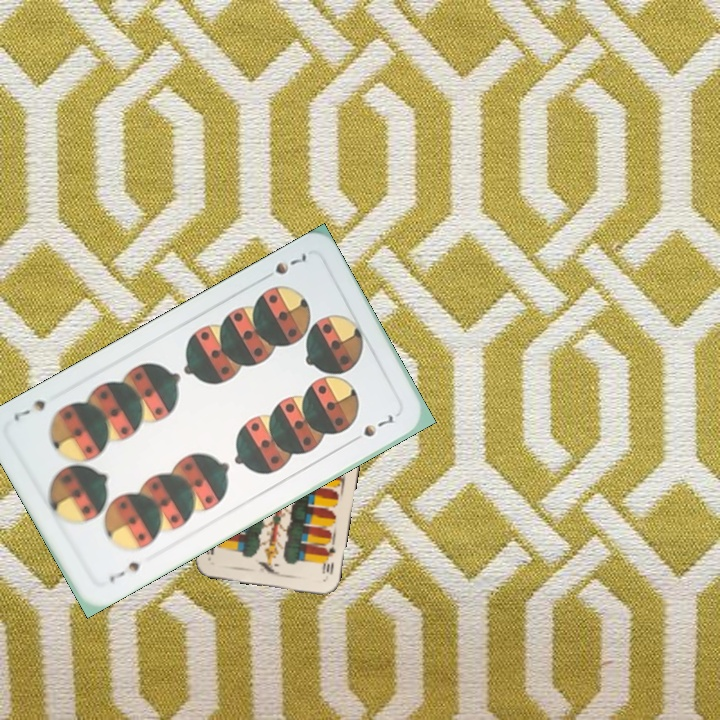E10: (318, 542, 338, 577)
S7: (257, 248, 310, 283), (105, 557, 142, 585)
